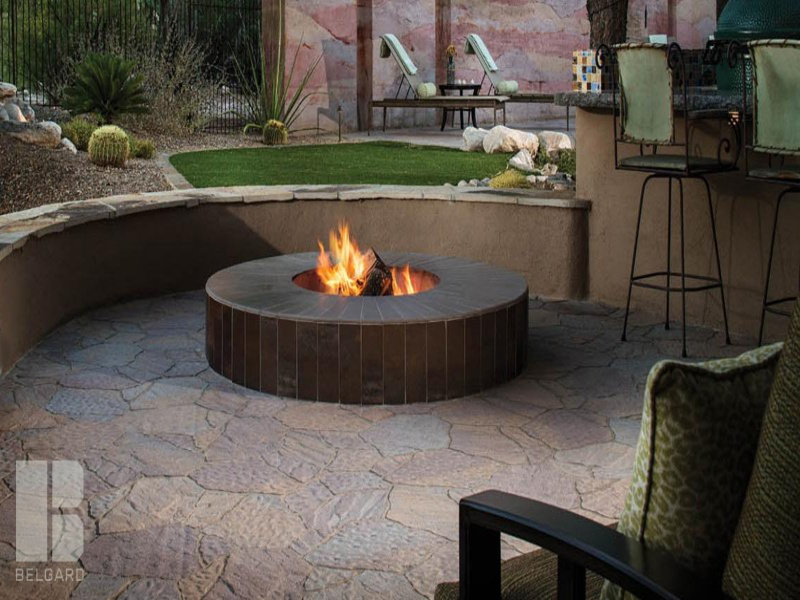fire: (317, 218, 362, 293), (389, 264, 415, 293)
